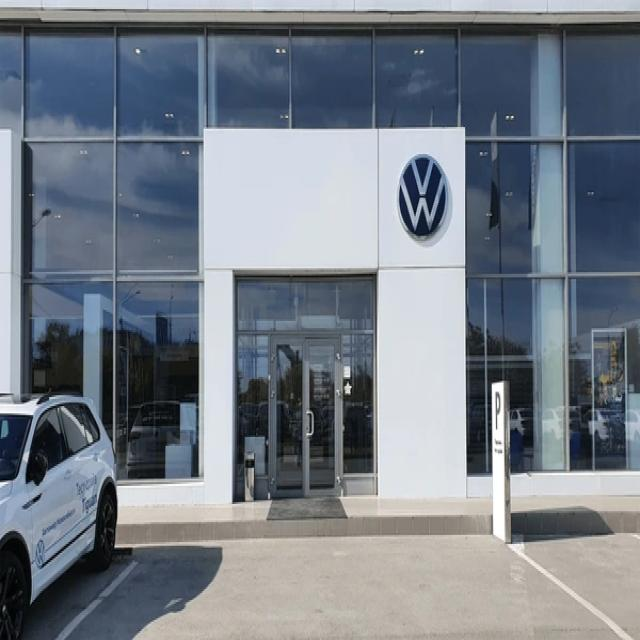wolksvogen: (394, 142, 451, 248)
